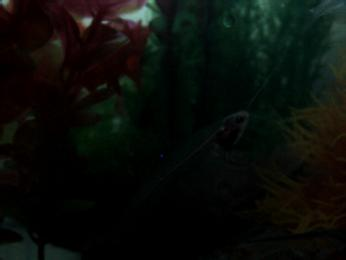glassfish: (117, 109, 252, 216)
